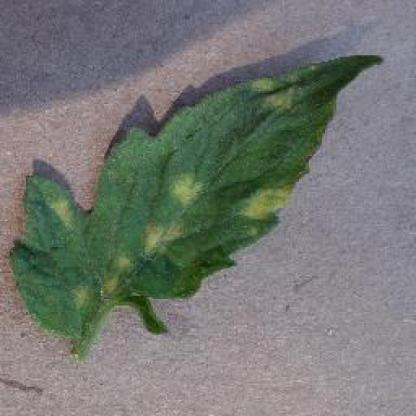Tomato_Leaf_Mold: (15, 55, 383, 333)
